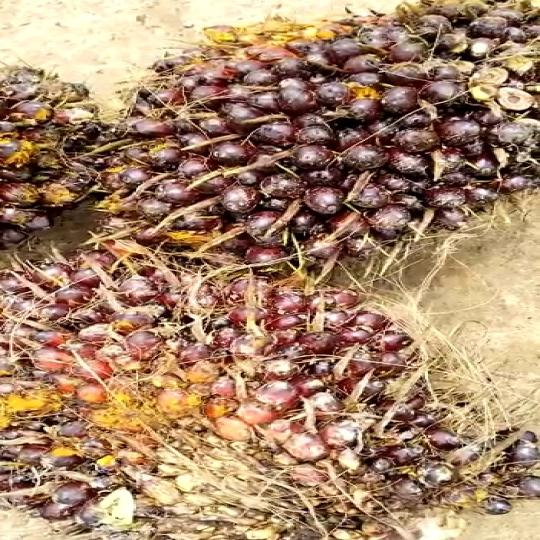kurang masak: (0, 235, 520, 540), (117, 5, 540, 262)
